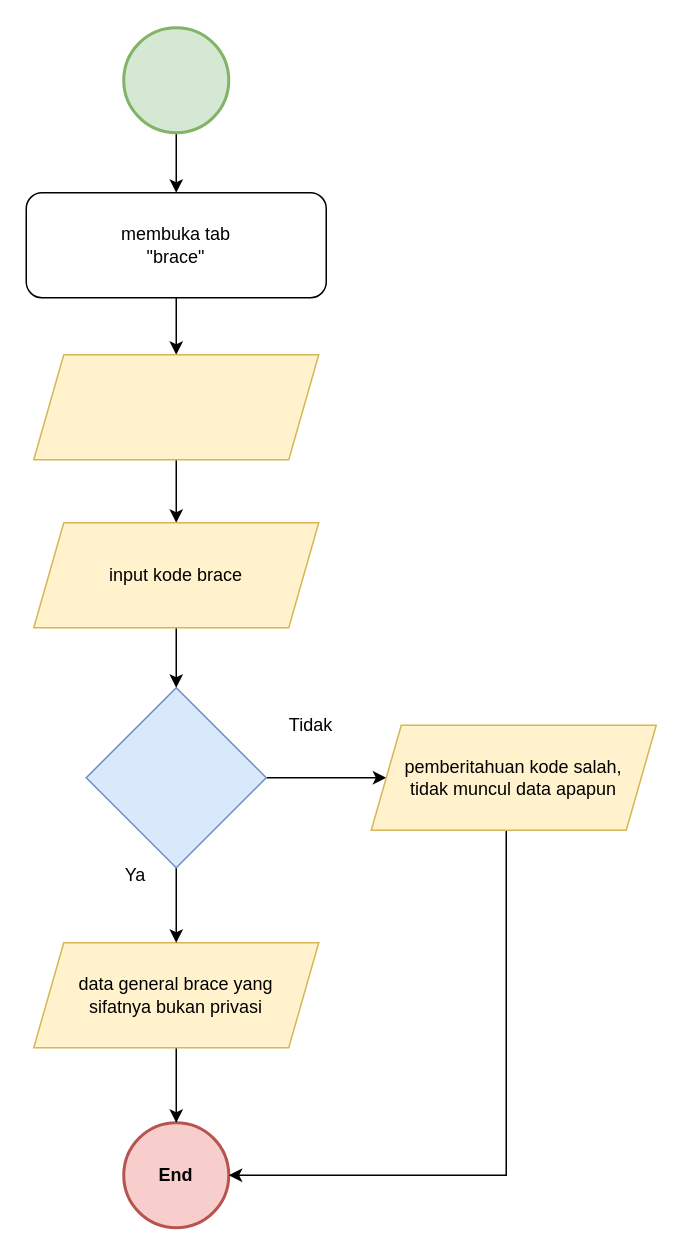
Some shapes in this 683 by 1254 pixel diagram are drawn without their labels. The shapes that lost their labels are listed below. From the top down, each one's centre as x and y in pixels, then its label:
point 176,80: Start
point 175,406: tekan tombol "cek data brace"
point 175,777: kode benar?
